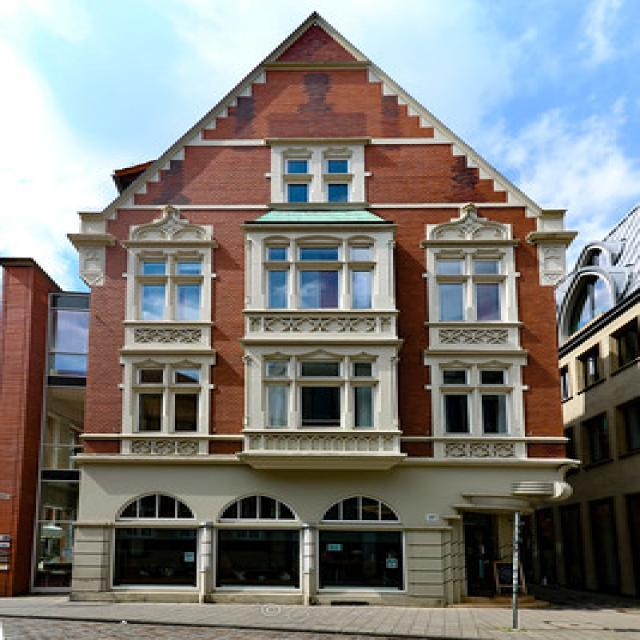building: (58, 11, 582, 614)
